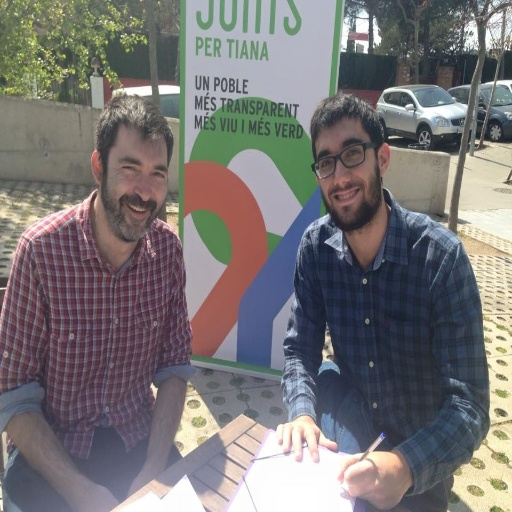hand: (337, 439, 417, 499), (274, 411, 338, 462), (69, 482, 120, 510), (123, 465, 163, 499)
